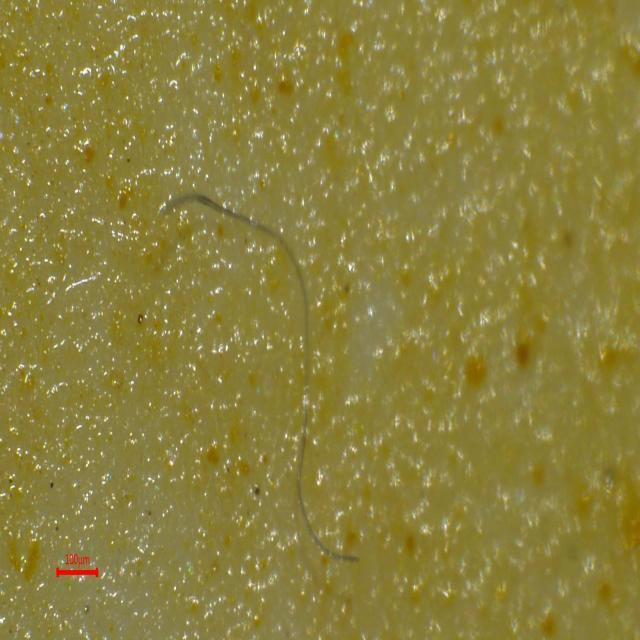Fibre: (155, 187, 367, 566)
